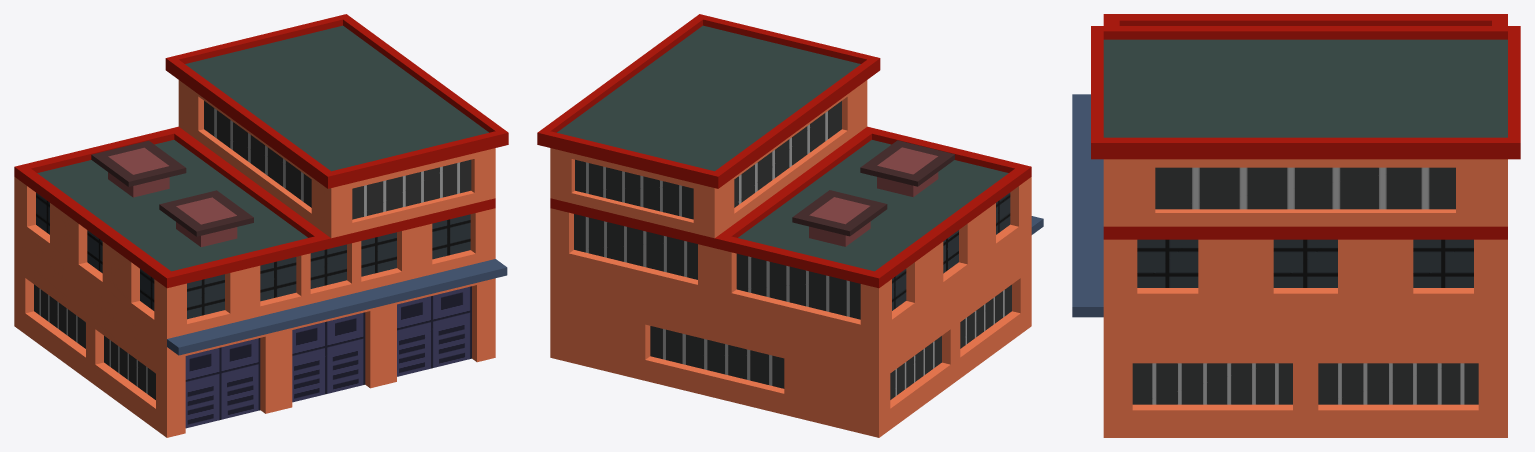
The model's file is building10b.FBX.
3 renders of one model, left to right at view 1: azimuth 30°, elevation 25°; view 2: azimuth 150°, elevation 25°; view 3: azimuth 270°, elevation 25°, orthographic. The views are drawn at different scales.
Parts seen in each view (by area): view 1: building10b; view 2: building10b; view 3: building10b.
Boxes of the visible parts, left/top/right/bottom form: building10b: left=14, top=14, right=508, bottom=437; building10b: left=537, top=14, right=1043, bottom=437; building10b: left=1072, top=14, right=1520, bottom=437.
Bounding box in the file's own units: 20.62 × 13.25 × 17.93.
